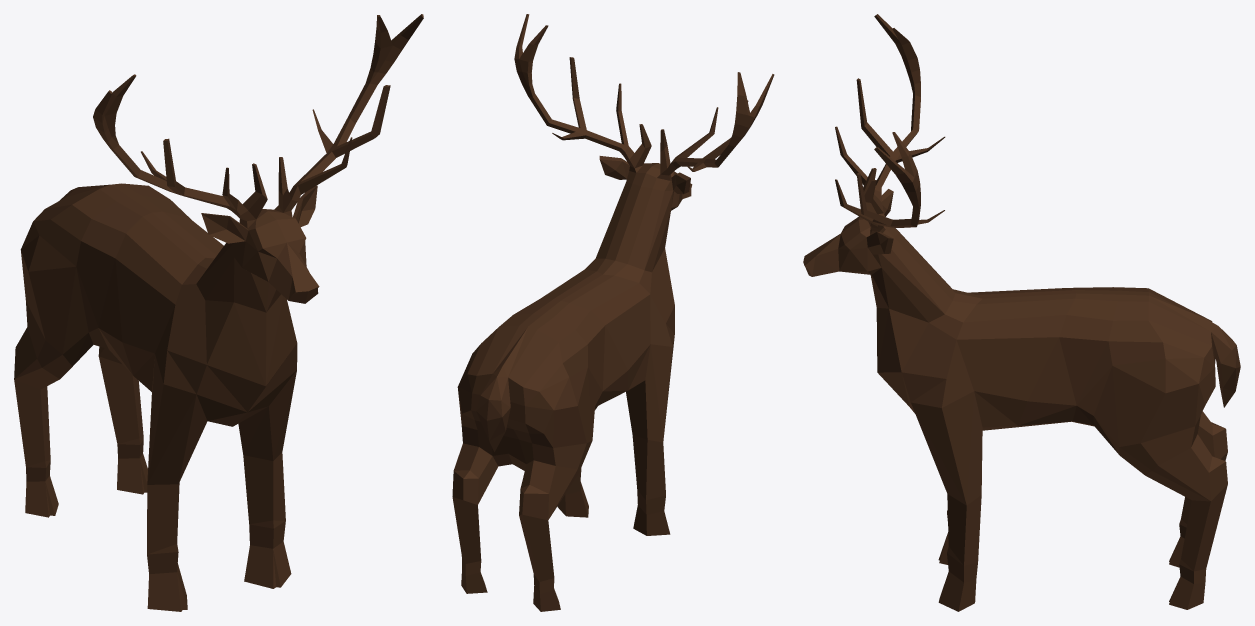
File: Deer.FBX
3 views of the same model, side by side, from view 1: azimuth 30°, elevation 25°; view 2: azimuth 150°, elevation 25°; view 3: azimuth 270°, elevation 25° (orthographic). The views are drawn at different scales.
Parts seen in each view (by area): view 1: Cerf; view 2: Cerf; view 3: Cerf.
Boxes of the visible parts, x1,y1,x2,y2 form: Cerf: (14, 14, 423, 611); Cerf: (452, 14, 774, 611); Cerf: (803, 14, 1240, 611).
Bounding box in the file's own units: 140 × 245 × 193.
